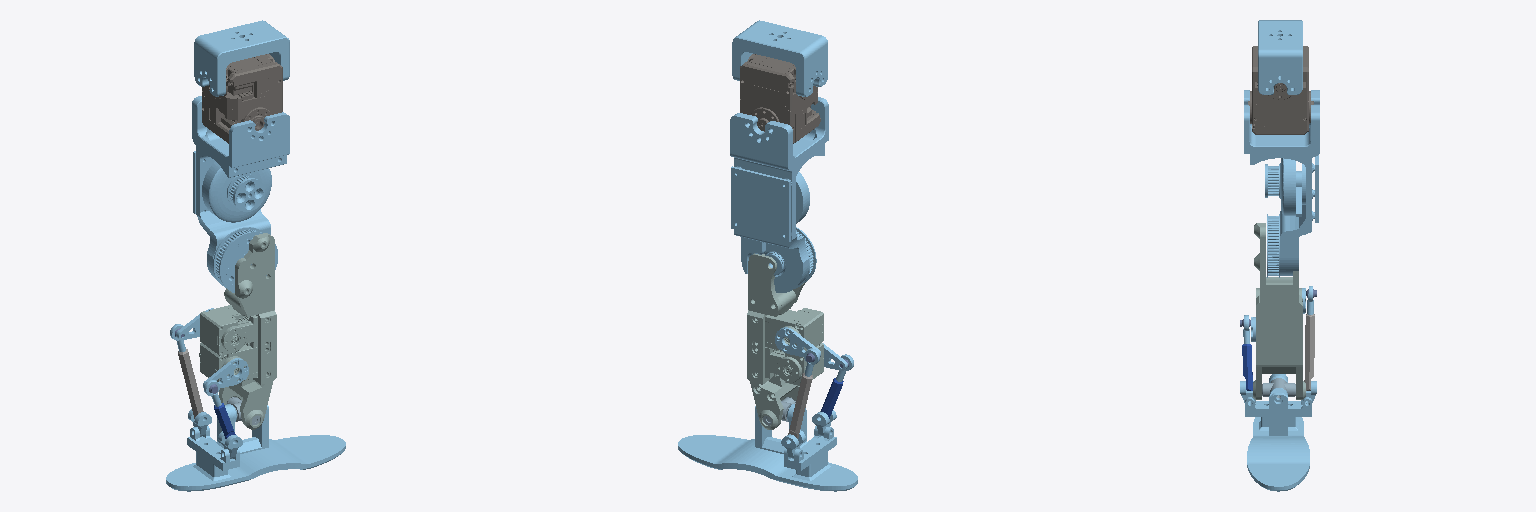
--- What the picture shows (computed from the rendered views, not written in the file) ---
Views: 3 orthographic renders of the robot side by side, from view 1: azimuth 30°, elevation 25°; view 2: azimuth 150°, elevation 25°; view 3: azimuth 270°, elevation 25°.
Robot: left_leg — 20 links, 19 joints (15 revolute, 4 fixed); root link hip_yaw_link; default pose: every joint at zero.
Links seen in each view (by area): view 1: left_hip_pitch_link, left_calf_link, ank_roll_link, hip_roll_link, hip_yaw_link, ank_motor_arm_2, ank_motor_rod_long; view 2: left_hip_pitch_link, left_calf_link, ank_roll_link, hip_roll_link, hip_yaw_link, ank_motor_arm, ank_motor_rod_long; view 3: left_hip_pitch_link, left_calf_link, ank_roll_link, hip_yaw_link, hip_roll_link, ank_motor_rod_long.
Link boxes in pixels (x1,y1,x2,y2): left_hip_pitch_link: [192, 96, 289, 292]; left_calf_link: [199, 233, 276, 429]; ank_roll_link: [166, 404, 345, 491]; hip_roll_link: [202, 54, 282, 143]; hip_yaw_link: [194, 20, 289, 96]; ank_motor_arm_2: [203, 358, 248, 387]; ank_motor_rod_long: [178, 349, 203, 418]; left_hip_pitch_link: [730, 97, 828, 292]; left_calf_link: [747, 253, 823, 429]; ank_roll_link: [678, 404, 857, 491]; hip_roll_link: [740, 54, 820, 143]; hip_yaw_link: [732, 20, 827, 96]; ank_motor_arm: [775, 327, 820, 356]; ank_motor_rod_long: [788, 373, 812, 438]; left_hip_pitch_link: [1244, 90, 1319, 277]; left_calf_link: [1253, 223, 1305, 399]; ank_roll_link: [1245, 374, 1311, 491]; hip_yaw_link: [1258, 20, 1302, 94]; hip_roll_link: [1248, 46, 1313, 134]; ank_motor_rod_long: [1304, 314, 1314, 390].
Size in the robot's own frame: 0.12 by 0.0505 by 0.285 metres.
16 mesh visuals loaded from 16 distinct referenced files (16 binary STL).

The robot description file, URDF, robot "left_leg":
<?xml version="1.0" ?><robot name="left_leg">  
  <link name="hip_yaw_link">    
    <visual>      
      <origin xyz="0 0 0" rpy="0 -0 0"/>      
      <geometry>        
        <mesh filename="package:///meshes/left_hip_yaw_link_visual.stl"/>        
      </geometry>      
      <material name="hip_yaw_link_material">        
        <color rgba="0.61568627450980395466 0.81176470588235294379 0.92941176470588238168 1.0"/>        
      </material>      
    </visual>    
    <collision>      
      <origin xyz="0 0 0" rpy="0 -0 0"/>      
      <geometry>        
        <mesh filename="package:///meshes/left_hip_yaw_link_collision.stl"/>        
      </geometry>      
    </collision>    
    <inertial>      
      <origin xyz="-5.5101789230161046531e-19 -9.400948879750256241e-20 -0.0098390489054829069482" rpy="0 0 0"/>      
      <mass value="0.014999999999999990771"/>      
      <inertia ixx="2.1987528242868777693e-06" ixy="0" ixz="0" iyy="6.3830609964205725014e-06" iyz="0" izz="6.43505900590789551e-06"/>      
    </inertial>    
  </link>  

  <link name="hip_roll_link">    
    <visual>      
      <origin xyz="0 0 0" rpy="0 -0 0"/>      
      <geometry>        
        <mesh filename="package:///meshes/left_hip_roll_link_visual.stl"/>        
      </geometry>      
      <material name="hip_roll_link_material">        
        <color rgba="0.51698661238356036218 0.50347815951093466413 0.49050589017722012741 1.0"/>        
      </material>      
    </visual>    
    <collision>      
      <origin xyz="0 0 0" rpy="0 -0 0"/>      
      <geometry>        
        <mesh filename="package:///meshes/left_hip_roll_link_collision.stl"/>        
      </geometry>      
    </collision>    
    <inertial>      
      <origin xyz="-0.011999849582183095068 -0.00049598090794401926244 -0.018504111838595654893" rpy="0 0 0"/>      
      <mass value="0.1069997065911066636"/>      
      <inertia ixx="2.2075996228674991587e-05" ixy="-4.5005801829287202249e-08" ixz="-4.5362214342477961119e-08" iyy="2.9866686933523032459e-05" iyz="-5.5606319466522363485e-07" izz="2.9866720157734995072e-05"/>      
    </inertial>    
  </link>  

  <link name="left_hip_pitch_link">    
    <visual>      
      <origin xyz="0 0 0" rpy="0 -0 0"/>      
      <geometry>        
        <mesh filename="package:///meshes/left_hip_pitch_link_visual.stl"/>        
      </geometry>      
      <material name="left_hip_pitch_link_material">        
        <color rgba="0.60761611741666043951 0.79846263680522922002 0.91833701394314359856 1.0"/>        
      </material>      
    </visual>    
    <collision>      
      <origin xyz="0 0 0" rpy="0 -0 0"/>      
      <geometry>        
        <mesh filename="package:///meshes/left_hip_pitch_link_collision.stl"/>        
      </geometry>      
    </collision>    
    <inertial>      
      <origin xyz="-0.00027050657435686269051 -0.052544233896243547344 -0.011708030540600624508" rpy="0 0 0"/>      
      <mass value="0.12009145853012412331"/>      
      <inertia ixx="9.2171114293683332054e-05" ixy="-8.1626909615574738179e-07" ixz="9.1361764625058803553e-08" iyy="2.749851788394372005e-05" iyz="-7.0374231047573233814e-07" izz="9.3087169061334415292e-05"/>      
    </inertial>    
  </link>  

  <link name="left_calf_link">    
    <visual>      
      <origin xyz="0 0 0" rpy="0 -0 0"/>      
      <geometry>        
        <mesh filename="package:///meshes/left_calf_link_visual.stl"/>        
      </geometry>      
      <material name="left_calf_link_material">        
        <color rgba="0.64161931050581799685 0.73230206884914084142 0.73021281586259834118 1.0"/>        
      </material>      
    </visual>    
    <collision>      
      <origin xyz="0 0 0" rpy="0 -0 0"/>      
      <geometry>        
        <mesh filename="package:///meshes/left_calf_link_collision.stl"/>        
      </geometry>      
    </collision>    
    <inertial>      
      <origin xyz="0.0030643809491421114891 -0.051918376473646568603 -0.010859274740000894252" rpy="0 0 0"/>      
      <mass value="0.063407494529051477983"/>      
      <inertia ixx="2.8402167026679982985e-05" ixy="1.7540668239291480263e-06" ixz="3.8446529657821296979e-08" iyy="1.1034151088862593557e-05" iyz="9.0366527202502362276e-07" izz="3.1463822351439257375e-05"/>      
    </inertial>    
  </link>  

  <link name="ank_pitch_link">    
    <visual>      
      <origin xyz="0 0 0" rpy="0 -0 0"/>      
      <geometry>        
        <mesh filename="package:///meshes/left_ank_pitch_link_visual.stl"/>        
      </geometry>      
      <material name="ank_pitch_link_material">        
        <color rgba="0.63189161126160264814 0.7266866879354088038 0.78356373393969258601 1.0"/>        
      </material>      
    </visual>    
    <collision>      
      <origin xyz="0 0 0" rpy="0 -0 0"/>      
      <geometry>        
        <mesh filename="package:///meshes/left_ank_pitch_link_collision.stl"/>        
      </geometry>      
    </collision>    
    <inertial>      
      <origin xyz="0.00059528282565969061185 -4.0269682124278117109e-08 7.7616093800603145463e-08" rpy="0 0 0"/>      
      <mass value="0.0042238381753791614387"/>      
      <inertia ixx="3.9782741364676169024e-07" ixy="-1.6834347678987483542e-13" ixz="2.0919195898224290227e-14" iyy="4.3705254067418524844e-07" iyz="-1.6428822103450162122e-12" izz="8.885857453459039712e-08"/>      
    </inertial>    
  </link>  

  <link name="ank_roll_link">    
    <visual>      
      <origin xyz="0 0 0" rpy="0 -0 0"/>      
      <geometry>        
        <mesh filename="package:///meshes/left_ank_roll_link_visual.stl"/>        
      </geometry>      
      <material name="ank_roll_link_material">        
        <color rgba="0.61568627450980406568 0.81176470588235305481 0.92941176470588238168 1.0"/>        
      </material>      
    </visual>    
    <collision>      
      <origin xyz="0 0 0" rpy="0 -0 0"/>      
      <geometry>        
        <mesh filename="package:///meshes/left_ank_roll_link_collision.stl"/>        
      </geometry>      
    </collision>    
    <inertial>      
      <origin xyz="-1.5355491727298272213e-07 0.028527176446002854016 0.00033056891385439813019" rpy="0 0 0"/>      
      <mass value="0.016673310305476595622"/>      
      <inertia ixx="1.4264385574634784001e-05" ixy="2.1722527643768668096e-11" ixz="1.1340328062399660425e-11" iyy="1.3727735347489623458e-05" iyz="-1.0837574262194425641e-06" izz="3.2785855102133900423e-06"/>      
    </inertial>    
  </link>  

  <link name="ank_rr_link">    
    <visual>      
      <origin xyz="0 0 0" rpy="0 -0 0"/>      
      <geometry>        
        <mesh filename="package:///meshes/left_ank_rr_link_visual.stl"/>        
      </geometry>      
      <material name="ank_rr_link_material">        
        <color rgba="0.61568627450980395466 0.81176470588235294379 0.92941176470588238168 1.0"/>        
      </material>      
    </visual>    
    <collision>      
      <origin xyz="0 0 0" rpy="0 -0 0"/>      
      <geometry>        
        <mesh filename="package:///meshes/left_ank_rr_link_collision.stl"/>        
      </geometry>      
    </collision>    
    <inertial>      
      <origin xyz="-4.5249610960602415272e-05 0.0063096429836314591247 -2.0068527260727738741e-19" rpy="0 0 0"/>      
      <mass value="0.00044406186452863177783"/>      
      <inertia ixx="9.1077331171855694404e-09" ixy="7.4152655953211025158e-11" ixz="1.087902411501761198e-14" iyy="8.4004339691196273494e-09" iyz="-7.6387268954577241633e-34" izz="1.3144828106018414972e-08"/>      
    </inertial>    
  </link>  

  <link name="closing_left_ank_rev_L2_2">    
    <inertial>      
      <origin xyz="0 0 0" rpy="0 0 0"/>      
      <mass value="1e-9"/>      
      <inertia ixx="0" ixy="0" ixz="0" iyy="0" iyz="0" izz="0"/>      
    </inertial>    
  </link>  
  <joint name="closing_left_ank_rev_L2_2_frame" type="fixed">    
    <origin xyz="0 0.010000000000000008882 3.4694469519536141888e-18" rpy="7.0209964047544403985e-20 1.570796326794896558 0"/>    
    <parent link="ank_rr_link"/>    
    <child link="closing_left_ank_rev_L2_2"/>    
    <axis xyz="0 0 0"/>    
  </joint>  

  <joint name="left_ank_rev_L1" type="revolute">    
    <origin xyz="-0.018000000000000009048 0.015999999999999875433 -0.020600000000000513734" rpy="7.4037391911877385894e-16 3.3309192919083955654e-15 3.1233695685467846026"/>    
    <parent link="ank_roll_link"/>    
    <child link="ank_rr_link"/>    
    <axis xyz="0 0 1"/>    
    <limit effort="1" velocity="20" lower="-1.570796326794896558" upper="1.570796326794896558"/>    
    <joint_properties friction="0.0"/>    
  </joint>  

  <link name="ank_rr_link_2">    
    <visual>      
      <origin xyz="0 0 0" rpy="0 -0 0"/>      
      <geometry>        
        <mesh filename="package:///meshes/left_ank_rr_link_2_visual.stl"/>        
      </geometry>      
      <material name="ank_rr_link_2_material">        
        <color rgba="0.61568627450980395466 0.81176470588235294379 0.92941176470588238168 1.0"/>        
      </material>      
    </visual>    
    <collision>      
      <origin xyz="0 0 0" rpy="0 -0 0"/>      
      <geometry>        
        <mesh filename="package:///meshes/left_ank_rr_link_2_collision.stl"/>        
      </geometry>      
    </collision>    
    <inertial>      
      <origin xyz="-4.5249610960602415272e-05 -0.0063096429836314591247 2.0068527260725834478e-19" rpy="0 0 0"/>      
      <mass value="0.00044406186452863177783"/>      
      <inertia ixx="9.1077331171855694404e-09" ixy="-7.4152655953211012234e-11" ixz="-1.087902411501761198e-14" iyy="8.4004339691196273494e-09" iyz="-3.7801626426269979951e-32" izz="1.3144828106018414972e-08"/>      
    </inertial>    
  </link>  

  <link name="closing_left_ank_rev_S2_2">    
    <inertial>      
      <origin xyz="0 0 0" rpy="0 0 0"/>      
      <mass value="1e-9"/>      
      <inertia ixx="0" ixy="0" ixz="0" iyy="0" iyz="0" izz="0"/>      
    </inertial>    
  </link>  
  <joint name="closing_left_ank_rev_S2_2_frame" type="fixed">    
    <origin xyz="-3.4694469519536141888e-18 -0.010000000000000008882 0" rpy="-3.141592653589793116 -1.570796326794896558 0"/>    
    <parent link="ank_rr_link_2"/>    
    <child link="closing_left_ank_rev_S2_2"/>    
    <axis xyz="0 0 0"/>    
  </joint>  

  <joint name="left_ank_rev_S1" type="revolute">    
    <origin xyz="0.017999999999999995171 0.016000000000000097478 -0.020600000000000388833" rpy="-7.926878562135764579e-15 2.6891288333172127523e-15 0.026118548507318702784"/>    
    <parent link="ank_roll_link"/>    
    <child link="ank_rr_link_2"/>    
    <axis xyz="0 0 1"/>    
    <limit effort="1" velocity="20" lower="-1.570796326794896558" upper="1.570796326794896558"/>    
    <joint_properties friction="0.0"/>    
  </joint>  

  <joint name="left_ank_roll" type="revolute">    
    <origin xyz="0.001500000000000003067 -2.7755575615628913511e-17 -7.8062556418956319249e-18" rpy="2.2204460498118395574e-16 1.570796326794896336 0"/>    
    <parent link="ank_pitch_link"/>    
    <child link="ank_roll_link"/>    
    <axis xyz="0 0 1"/>    
    <limit effort="1" velocity="20" lower="-0.785398163397448279" upper="0.785398163397448279"/>    
    <joint_properties friction="0.0"/>    
  </joint>  

  <joint name="left_ank_pitch" type="revolute">    
    <origin xyz="3.1736313088862846164e-17 -0.099999999999999977796 -0.010800000000000118533" rpy="-6.6613381472604472254e-16 -2.7755575615334569785e-16 -3.141592653589793116"/>    
    <parent link="left_calf_link"/>    
    <child link="ank_pitch_link"/>    
    <axis xyz="0 0 1"/>    
    <limit effort="1" velocity="20" lower="-0.785398163397448279" upper="0.95993108859688125456"/>    
    <joint_properties friction="0.0"/>    
  </joint>  

  <link name="ank_motor_arm">    
    <visual>      
      <origin xyz="0 0 0" rpy="0 -0 0"/>      
      <geometry>        
        <mesh filename="package:///meshes/left_ank_motor_arm_visual.stl"/>        
      </geometry>      
      <material name="ank_motor_arm_material">        
        <color rgba="0.61568627450980395466 0.81176470588235294379 0.92941176470588238168 1.0"/>        
      </material>      
    </visual>    
    <collision>      
      <origin xyz="0 0 0" rpy="0 -0 0"/>      
      <geometry>        
        <mesh filename="package:///meshes/left_ank_motor_arm_collision.stl"/>        
      </geometry>      
    </collision>    
    <inertial>      
      <origin xyz="0.0060871522238996099777 -1.670823323238840618e-18 0.0014415996041339243158" rpy="0 0 0"/>      
      <mass value="0.00081249023041677498336"/>      
      <inertia ixx="1.258116822607804934e-08" ixy="1.9400109205511231185e-24" ixz="-3.0436827602313046902e-10" iyy="5.1146616052620583155e-08" iyz="-6.0031040072595639588e-27" izz="6.2546224268964395239e-08"/>      
    </inertial>    
  </link>  

  <link name="ball_joint_ball">    
    <visual>      
      <origin xyz="0 0 0" rpy="0 -0 0"/>      
      <geometry>        
        <mesh filename="package:///meshes/left_ball_joint_ball_visual.stl"/>        
      </geometry>      
      <material name="ball_joint_ball_material">        
        <color rgba="0.46677092258406521763 0.53140243424371769176 0.67257126234243258533 1.0"/>        
      </material>      
    </visual>    
    <collision>      
      <origin xyz="0 0 0" rpy="0 -0 0"/>      
      <geometry>        
        <mesh filename="package:///meshes/left_ball_joint_ball_collision.stl"/>        
      </geometry>      
    </collision>    
    <inertial>      
      <origin xyz="1.5123864871673479193e-17 -2.0055880864182788372e-17 0.0027461895781546361538" rpy="0 0 0"/>      
      <mass value="0.00010858471987832157455"/>      
      <inertia ixx="6.6064515645819380727e-10" ixy="3.9251294555153911806e-24" ixz="-4.8558691675758596705e-26" iyy="6.6066781021721444354e-10" iyz="9.2891545702760248622e-25" izz="4.0240894440645258492e-10"/>      
    </inertial>    
  </link>  

  <link name="ball_joint_container">    
    <visual>      
      <origin xyz="0 0 0" rpy="0 -0 0"/>      
      <geometry>        
        <mesh filename="package:///meshes/left_ball_joint_container_visual.stl"/>        
      </geometry>      
      <material name="ball_joint_container_material">        
        <color rgba="0.61568627450980395466 0.81176470588235294379 0.92941176470588238168 1.0"/>        
      </material>      
    </visual>    
    <collision>      
      <origin xyz="0 0 0" rpy="0 -0 0"/>      
      <geometry>        
        <mesh filename="package:///meshes/left_ball_joint_container_collision.stl"/>        
      </geometry>      
    </collision>    
    <inertial>      
      <origin xyz="-4.1400971897425941893e-19 -0.0027410199203514737723 1.449403213090352608e-17" rpy="0 0 0"/>      
      <mass value="0.00012018994143287794086"/>      
      <inertia ixx="3.7034315414442082721e-09" ixy="-2.0604994569612822723e-27" ixz="-5.907498195772848585e-16" iyy="9.098720990618852956e-10" iyz="-2.8169384865689208011e-26" izz="3.0460653612632305448e-09"/>      
    </inertial>    
  </link>  

  <link name="ank_motor_rod_long">    
    <visual>      
      <origin xyz="0 0 0" rpy="0 -0 0"/>      
      <geometry>        
        <mesh filename="package:///meshes/left_ank_motor_rod_long_visual.stl"/>        
      </geometry>      
      <material name="ank_motor_rod_long_material">        
        <color rgba="0.64705882352941179736 0.64705882352941179736 0.64705882352941179736 1.0"/>        
      </material>      
    </visual>    
    <collision>      
      <origin xyz="0 0 0" rpy="0 -0 0"/>      
      <geometry>        
        <mesh filename="package:///meshes/left_ank_motor_rod_long_collision.stl"/>        
      </geometry>      
    </collision>    
    <inertial>      
      <origin xyz="-9.7346416373000218777e-05 1.0182869582458364612e-06 -0.024100608682741352096" rpy="0 0 0"/>      
      <mass value="0.0013712857268636708969"/>      
      <inertia ixx="2.3699073636531176053e-07" ixy="-2.6102107799919155293e-12" ixz="-2.6767215486535000074e-09" iyy="2.3674128656418915843e-07" iyz="2.7996932450539530308e-11" izz="7.1763054928101012602e-09"/>      
    </inertial>    
  </link>  

  <link name="closing_left_ank_rev_L2_1">    
    <inertial>      
      <origin xyz="0 0 0" rpy="0 0 0"/>      
      <mass value="1e-9"/>      
      <inertia ixx="0" ixy="0" ixz="0" iyy="0" iyz="0" izz="0"/>      
    </inertial>    
  </link>  
  <joint name="closing_left_ank_rev_L2_1_frame" type="fixed">    
    <origin xyz="-0.00099994533629822399123 1.0455831645647672978e-05 -0.046000000000000040856" rpy="1.570796326794896558 4.2120208357513646006e-17 1.5603403046269419541"/>    
    <parent link="ank_motor_rod_long"/>    
    <child link="closing_left_ank_rev_L2_1"/>    
    <axis xyz="0 0 0"/>    
  </joint>  

  <joint name="left_ank_ball_L3" type="revolute">    
    <origin xyz="-6.9388939039072283776e-18 -0.012999999999999983791 0" rpy="1.570796326794896558 -0.014766188892399390031 3.1415926535897926719"/>    
    <parent link="ball_joint_container"/>    
    <child link="ank_motor_rod_long"/>    
    <axis xyz="0 0 1"/>    
    <limit effort="1" velocity="20" lower="-1.570796326794896558" upper="1.570796326794896558"/>    
    <joint_properties friction="0.0"/>    
  </joint>  

  <joint name="left_ank_ball_L2" type="revolute">    
    <origin xyz="0 -1.3877787807814456755e-17 0.0028266588050199839555" rpy="1.5707963267948932273 1.5530902478181201065 -1.9023473190431795717e-13"/>    
    <parent link="ball_joint_ball"/>    
    <child link="ball_joint_container"/>    
    <axis xyz="0 0 1"/>    
    <limit effort="1" velocity="20" lower="-0.785398163397448279" upper="0.785398163397448279"/>    
    <joint_properties friction="0.0"/>    
  </joint>  

  <joint name="left_ank_ball_L1" type="revolute">    
    <origin xyz="0.020000000000000010825 -2.7755575615628913511e-17 0.0029999999999999957256" rpy="-3.4619281425424893989e-15 -7.6118586548101139265e-16 1.5437324815808439737"/>    
    <parent link="ank_motor_arm"/>    
    <child link="ball_joint_ball"/>    
    <axis xyz="0 0 1"/>    
    <limit effort="1" velocity="20" lower="-1.570796326794896558" upper="1.570796326794896558"/>    
    <joint_properties friction="0.0"/>    
  </joint>  

  <joint name="left_ank_act_1" type="revolute">    
    <origin xyz="0.013499999999996870406 -0.044499999999992989608 0.0036000000000018725355" rpy="-2.8418571064124319536e-13 -1.8951096108239836653e-13 -0.2117339413023767436"/>    
    <parent link="left_calf_link"/>    
    <child link="ank_motor_arm"/>    
    <axis xyz="0 0 1"/>    
    <limit effort="1" velocity="20" lower="-1.570796326794896558" upper="1.570796326794896558"/>    
    <joint_properties friction="0.0"/>    
  </joint>  

  <link name="ank_motor_arm_2">    
    <visual>      
      <origin xyz="0 0 0" rpy="0 -0 0"/>      
      <geometry>        
        <mesh filename="package:///meshes/left_ank_motor_arm_2_visual.stl"/>        
      </geometry>      
      <material name="ank_motor_arm_2_material">        
        <color rgba="0.61568627450980395466 0.81176470588235294379 0.92941176470588238168 1.0"/>        
      </material>      
    </visual>    
    <collision>      
      <origin xyz="0 0 0" rpy="0 -0 0"/>      
      <geometry>        
        <mesh filename="package:///meshes/left_ank_motor_arm_2_collision.stl"/>        
      </geometry>      
    </collision>    
    <inertial>      
      <origin xyz="0.0060871522238996238555 2.5730388461129014546e-17 0.0014415996041339225811" rpy="0 0 0"/>      
      <mass value="0.00081249023041677498336"/>      
      <inertia ixx="1.258116822607804934e-08" ixy="-7.1067517580877391636e-25" ixz="-3.0436827602313046902e-10" iyy="5.1146616052620583155e-08" iyz="1.1715708408130232653e-26" izz="6.2546224268964395239e-08"/>      
    </inertial>    
  </link>  

  <link name="ball_joint_ball_2">    
    <visual>      
      <origin xyz="0 0 0" rpy="0 -0 0"/>      
      <geometry>        
        <mesh filename="package:///meshes/left_ball_joint_ball_2_visual.stl"/>        
      </geometry>      
      <material name="ball_joint_ball_2_material">        
        <color rgba="0.46677092258406521763 0.53140243424371769176 0.67257126234243258533 1.0"/>        
      </material>      
    </visual>    
    <collision>      
      <origin xyz="0 0 0" rpy="0 -0 0"/>      
      <geometry>        
        <mesh filename="package:///meshes/left_ball_joint_ball_2_collision.stl"/>        
      </geometry>      
    </collision>    
    <inertial>      
      <origin xyz="-1.6301596596295365312e-17 -1.3919131966227833821e-17 0.0027461895781546040614" rpy="0 0 0"/>      
      <mass value="0.00010858471987832157455"/>      
      <inertia ixx="6.6064515645822079404e-10" ixy="2.0431273111326108901e-24" ixz="-7.1807695416767398161e-24" iyy="6.6066781021724939192e-10" iyz="5.9408263992394913411e-24" izz="4.0240894440645584194e-10"/>      
    </inertial>    
  </link>  

  <link name="ball_joint_container_2">    
    <visual>      
      <origin xyz="0 0 0" rpy="0 -0 0"/>      
      <geometry>        
        <mesh filename="package:///meshes/left_ball_joint_container_2_visual.stl"/>        
      </geometry>      
      <material name="ball_joint_container_2_material">        
        <color rgba="0.61568627450980395466 0.81176470588235294379 0.92941176470588238168 1.0"/>        
      </material>      
    </visual>    
    <collision>      
      <origin xyz="0 0 0" rpy="0 -0 0"/>      
      <geometry>        
        <mesh filename="package:///meshes/left_ball_joint_container_2_collision.stl"/>        
      </geometry>      
    </collision>    
    <inertial>      
      <origin xyz="-4.1208874977212706031e-19 -0.0027410199203514451494 1.4662097118603990529e-17" rpy="0 0 0"/>      
      <mass value="0.00012018994143287794086"/>      
      <inertia ixx="3.7034315414442082721e-09" ixy="1.12787582079448234e-26" ixz="-5.907498195714668121e-16" iyy="9.0987209906188467521e-10" iyz="2.1797517416955128605e-25" izz="3.0460653612632321991e-09"/>      
    </inertial>    
  </link>  

  <link name="ank_motor_rod_short">    
    <visual>      
      <origin xyz="0 0 0" rpy="0 -0 0"/>      
      <geometry>        
        <mesh filename="package:///meshes/left_ank_motor_rod_short_visual.stl"/>        
      </geometry>      
      <material name="ank_motor_rod_short_material">        
        <color rgba="0.2313725490196078538 0.38039215686274507888 0.70588235294117662733 1.0"/>        
      </material>      
    </visual>    
    <collision>      
      <origin xyz="0 0 0" rpy="0 -0 0"/>      
      <geometry>        
        <mesh filename="package:///meshes/left_ank_motor_rod_short_collision.stl"/>        
      </geometry>      
    </collision>    
    <inertial>      
      <origin xyz="-0.00018125718822255970641 1.8957901221514275507e-06 -0.014161547524153638919" rpy="0 0 0"/>      
      <mass value="0.00073646453671346689789"/>      
      <inertia ixx="4.826821633760022957e-08" ixy="-2.7267361279491395417e-12" ixz="-1.40043213192764502e-09" iyy="4.8007565255284142283e-08" iyz="1.4646474015460089032e-11" izz="3.9909990774867184227e-09"/>      
    </inertial>    
  </link>  

  <link name="closing_left_ank_rev_S2_1">    
    <inertial>      
      <origin xyz="0 0 0" rpy="0 0 0"/>      
      <mass value="1e-9"/>      
      <inertia ixx="0" ixy="0" ixz="0" iyy="0" iyz="0" izz="0"/>      
    </inertial>    
  </link>  
  <joint name="closing_left_ank_rev_S2_1_frame" type="fixed">    
    <origin xyz="-0.00099994533629823439957 1.0455831645606039615e-05 -0.026499999999999995781" rpy="1.570796326794896558 3.7006396000235973601e-17 1.5603403046269499477"/>    
    <parent link="ank_motor_rod_short"/>    
    <child link="closing_left_ank_rev_S2_1"/>    
    <axis xyz="0 0 0"/>    
  </joint>  

  <joint name="left_ank_ball_S3" type="revolute">    
    <origin xyz="-3.4694469519536141888e-18 -0.012999999999999956035 1.3877787807814456755e-17" rpy="-1.57079632679489678 0.0012806128728100093627 2.0484006062427578669e-15"/>    
    <parent link="ball_joint_container_2"/>    
    <child link="ank_motor_rod_short"/>    
    <axis xyz="0 0 1"/>    
    <limit effort="1" velocity="20" lower="-1.570796326794896558" upper="1.570796326794896558"/>    
    <joint_properties friction="0.0"/>    
  </joint>  

  <joint name="left_ank_ball_S2" type="revolute">    
    <origin xyz="-2.7755575615628913511e-17 -1.3877787807814456755e-17 0.0028266588050205147808" rpy="1.5707963267949007768 -1.5463421405913249096 3.1415926535897660266"/>    
    <parent link="ball_joint_ball_2"/>    
    <child link="ball_joint_container_2"/>    
    <axis xyz="0 0 1"/>    
    <limit effort="1" velocity="20" lower="-0.785398163397448279" upper="0.785398163397448279"/>    
    <joint_properties friction="0.0"/>    
  </joint>  

  <joint name="left_ank_ball_S1" type="revolute">    
    <origin xyz="0.019999999999999941436 2.7755575615628913511e-17 0.0030000000000000009298" rpy="-9.581950962637239762e-16 -2.6688370162663054986e-15 -1.4417572640027598307"/>    
    <parent link="ank_motor_arm_2"/>    
    <child link="ball_joint_ball_2"/>    
    <axis xyz="0 0 1"/>    
    <limit effort="1" velocity="20" lower="-1.570796326794896558" upper="1.570796326794896558"/>    
    <joint_properties friction="0.0"/>    
  </joint>  

  <joint name="left_ank_act_2" type="revolute">    
    <origin xyz="0.013500000000003722564 -0.064499999999992174704 -0.025200000000000430389" rpy="-3.1415926535894738159 -6.5359609279554394162e-14 -0.22995607267359510772"/>    
    <parent link="left_calf_link"/>    
    <child link="ank_motor_arm_2"/>    
    <axis xyz="0 0 1"/>    
    <limit effort="1" velocity="20" lower="-1.570796326794896558" upper="1.570796326794896558"/>    
    <joint_properties friction="0.0"/>    
  </joint>  

  <joint name="left_knee" type="revolute">    
    <origin xyz="1.8578426952953642538e-17 -0.096000000000000015876 -0.0092000000000002270933" rpy="3.8302694346186014501e-15 -1.0361503322495635862e-14 -7.9936057778244984363e-15"/>    
    <parent link="left_hip_pitch_link"/>    
    <child link="left_calf_link"/>    
    <axis xyz="0 0 1"/>    
    <limit effort="1" velocity="20" lower="0" upper="1.9198621771937625091"/>    
    <joint_properties friction="0.0"/>    
  </joint>  

  <joint name="left_hip_pitch" type="revolute">    
    <origin xyz="-0.024000000716142607521 -0.0190000001524444663 -0.019000000152450565588" rpy="1.5707963267950835196 1.5707963267947200325 0"/>    
    <parent link="hip_roll_link"/>    
    <child link="left_hip_pitch_link"/>    
    <axis xyz="0 0 1"/>    
    <limit effort="1" velocity="20" lower="-1.570796326794896558" upper="1.570796326794896558"/>    
    <joint_properties friction="0.0"/>    
  </joint>  

  <joint name="left_hip_roll" type="revolute">    
    <origin xyz="0.01900000000000011402 -1.171599360750613133e-17 -0.025999999999999003075" rpy="-3.1415926535897917837 -1.5707963267948941155 0"/>    
    <parent link="hip_yaw_link"/>    
    <child link="hip_roll_link"/>    
    <axis xyz="0 0 1"/>    
    <limit effort="1" velocity="20" lower="-0.785398163397448279" upper="1.570796326794896558"/>    
    <joint_properties friction="0.0"/>    
  </joint>  


</robot>
